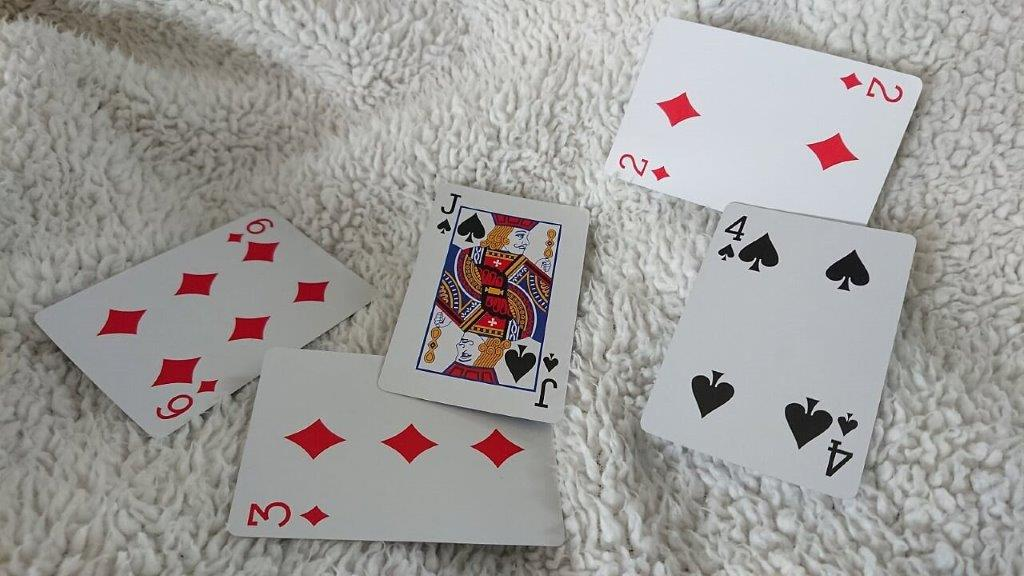4S: (714, 210, 754, 267)
JS: (433, 185, 466, 243)
